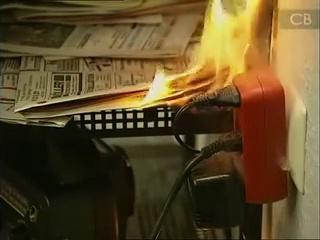Fire: (108, 1, 266, 117)
